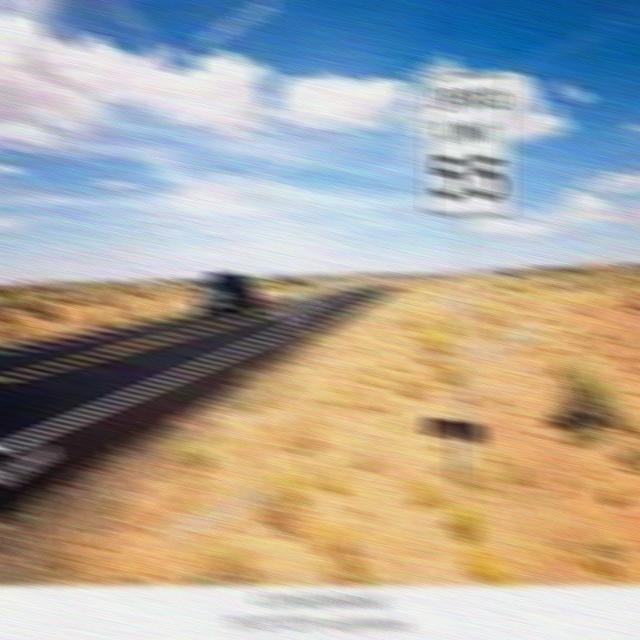speedLimit55: (416, 63, 516, 230)
